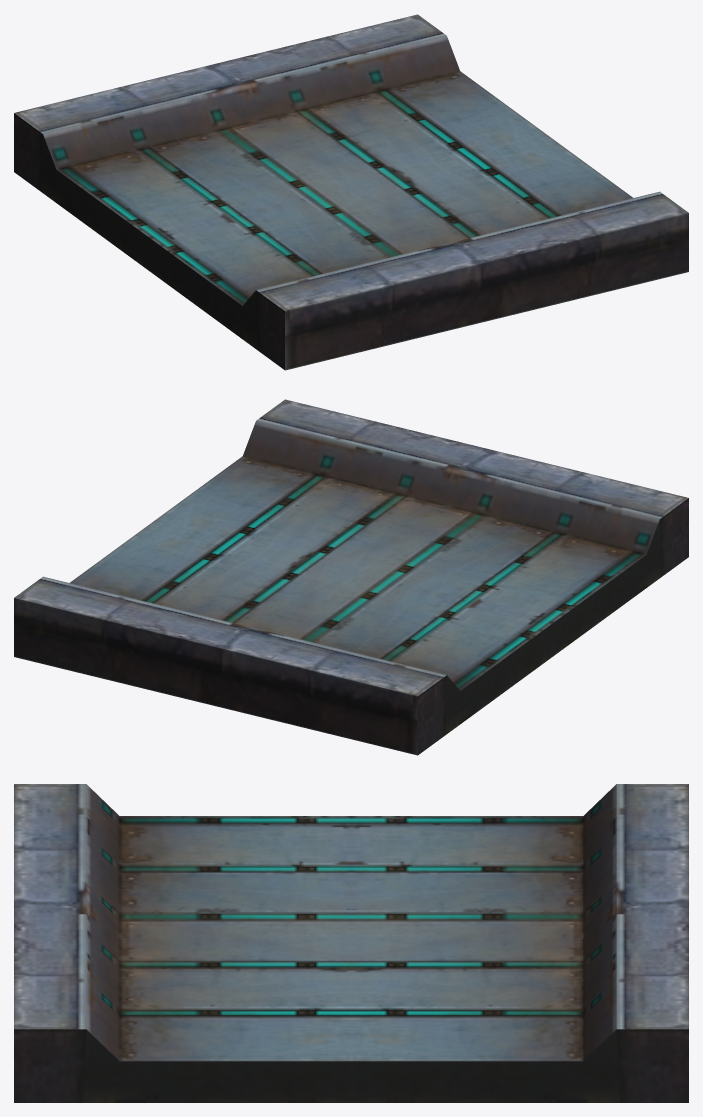
Rendered from yw_gonghuilingdi_jianzhu10.FBX.
3 renders of one model, top to bottom at view 1: azimuth 30°, elevation 25°; view 2: azimuth 150°, elevation 25°; view 3: azimuth 270°, elevation 25°, orthographic. The views are drawn at different scales.
Visible parts, largest first — view 1: yw_gonghuilingdi_jianzhu10; view 2: yw_gonghuilingdi_jianzhu10; view 3: yw_gonghuilingdi_jianzhu10.
Boxes of the visible parts, x1,y1,x2,y2 form: yw_gonghuilingdi_jianzhu10: (14,14,688,370); yw_gonghuilingdi_jianzhu10: (14,399,688,755); yw_gonghuilingdi_jianzhu10: (14,784,688,1102).
Bounding box in the file's own units: 188 × 26.24 × 218.
